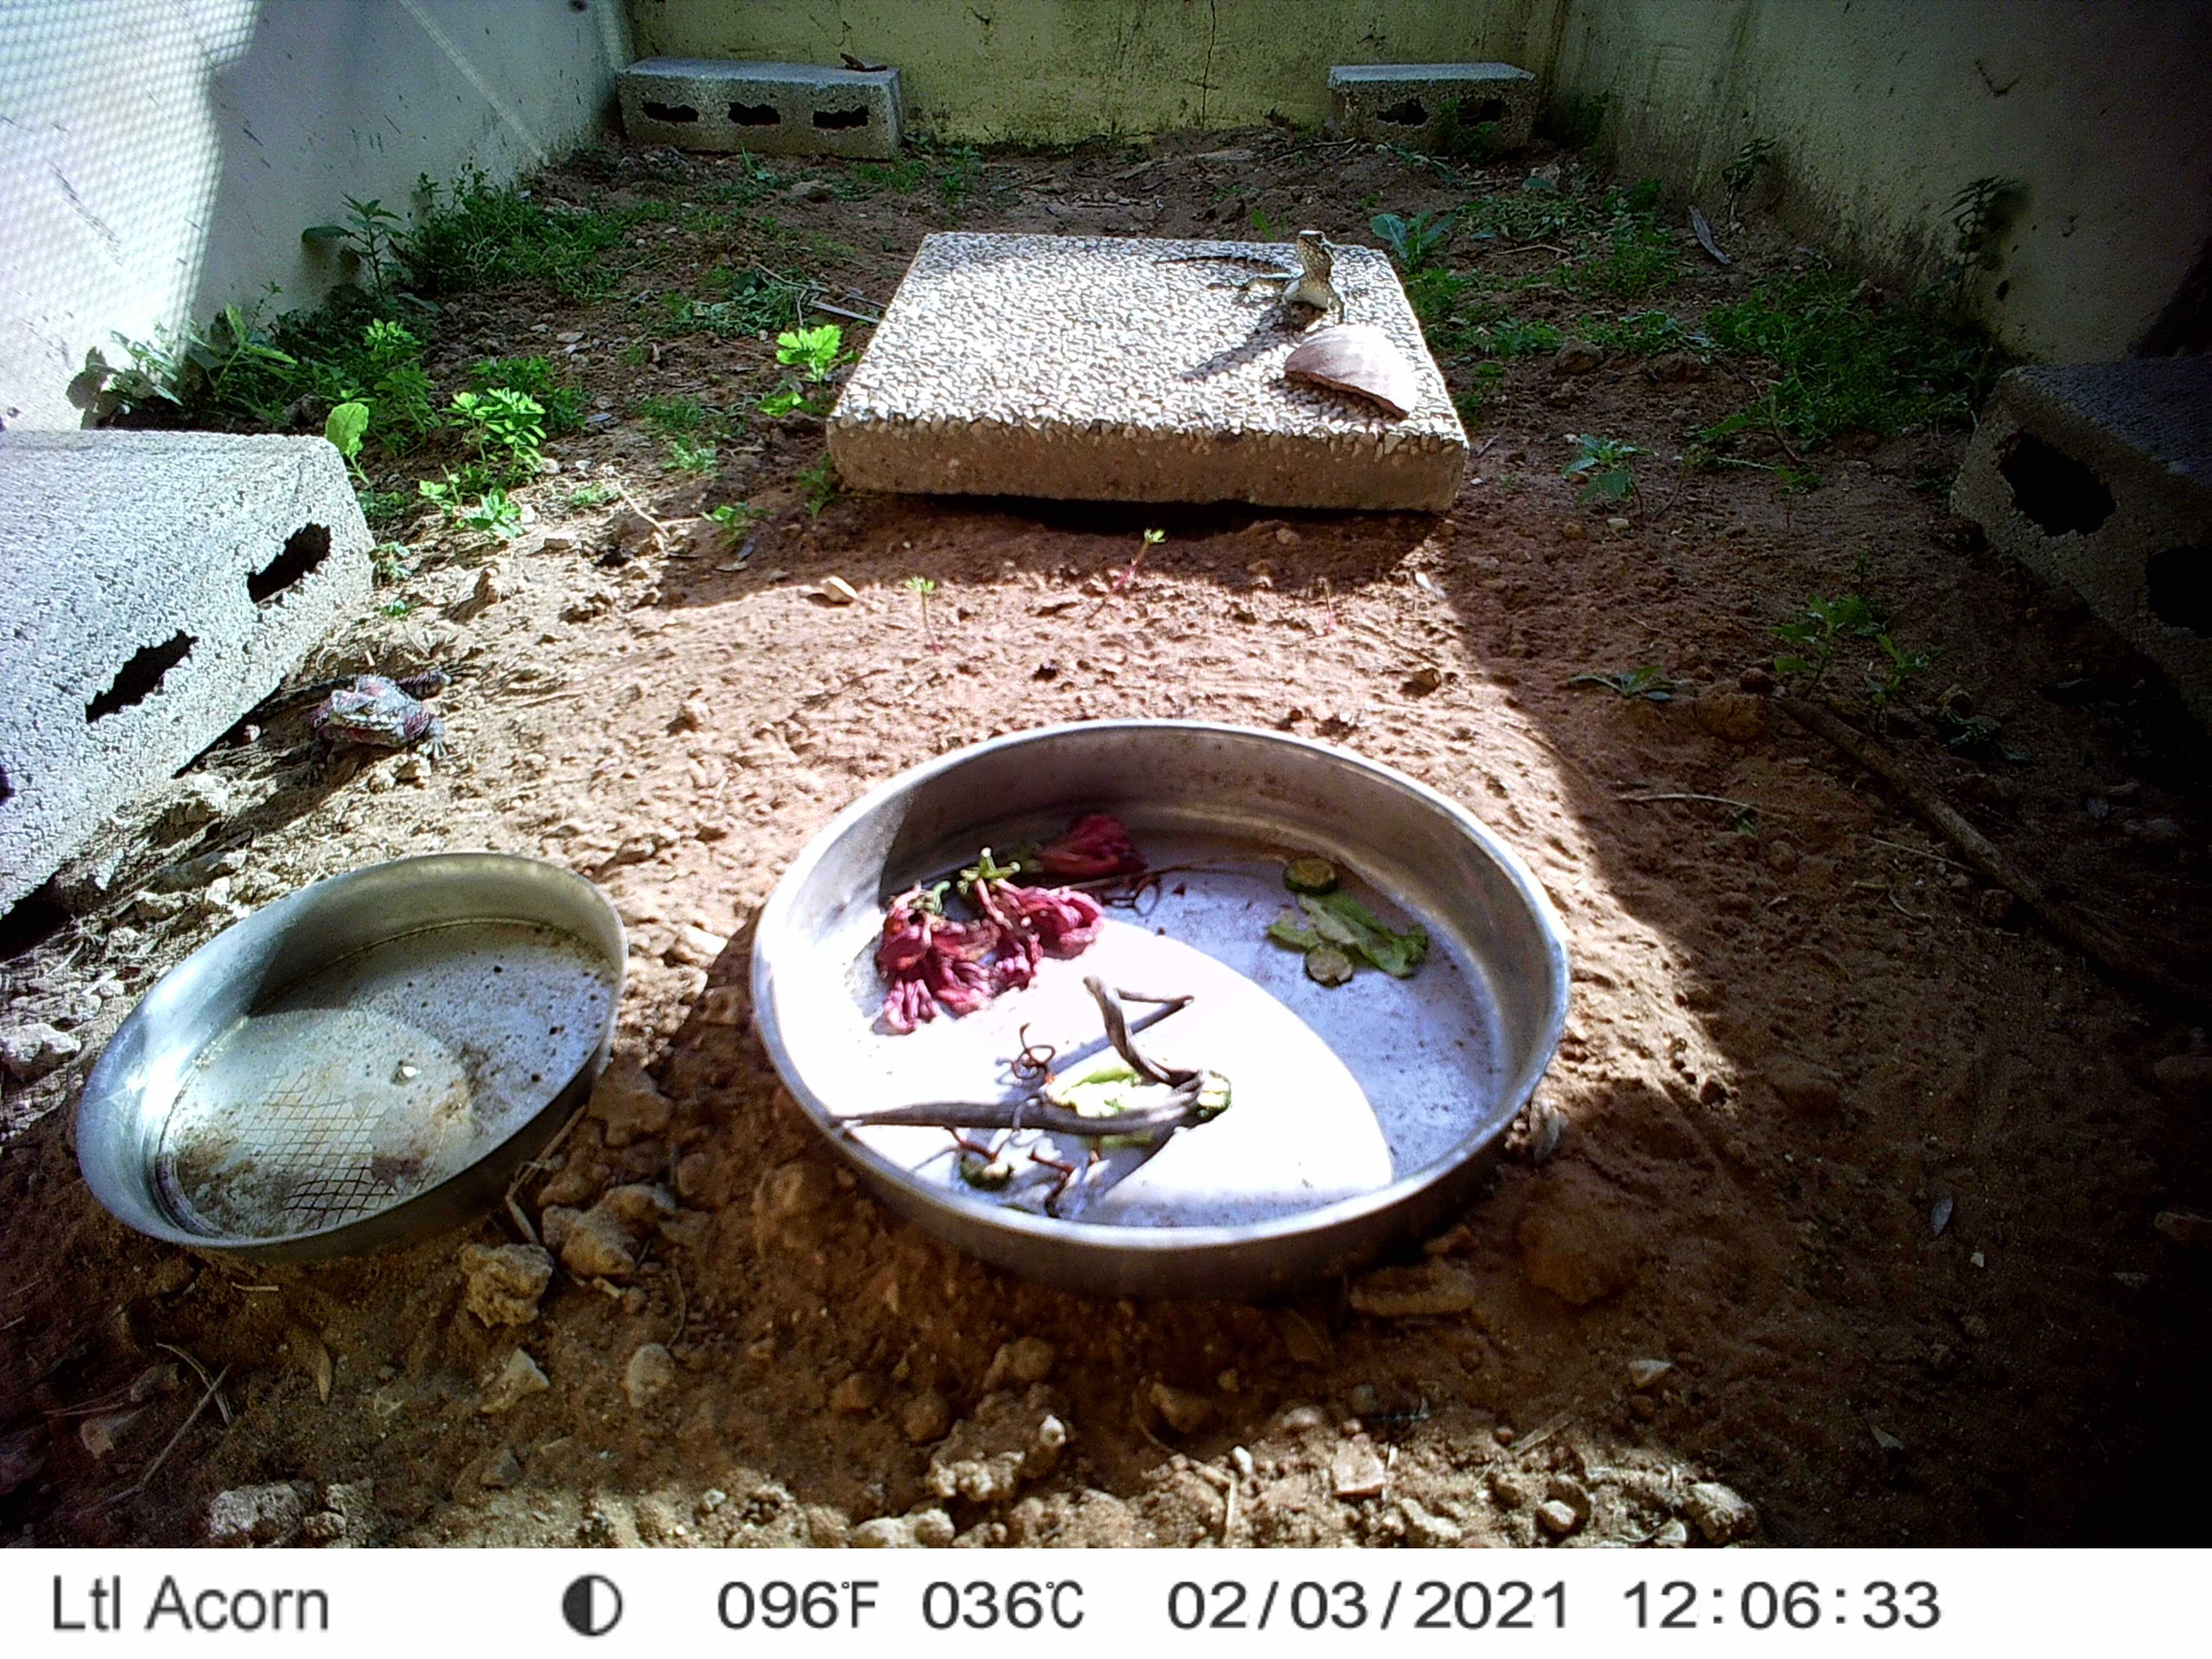lizard: (246, 657, 453, 805), (1155, 230, 1348, 324)
